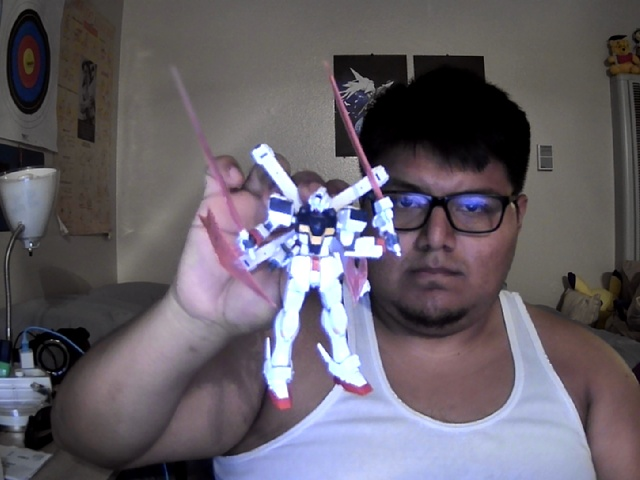Crossbones: (171, 59, 404, 412)
